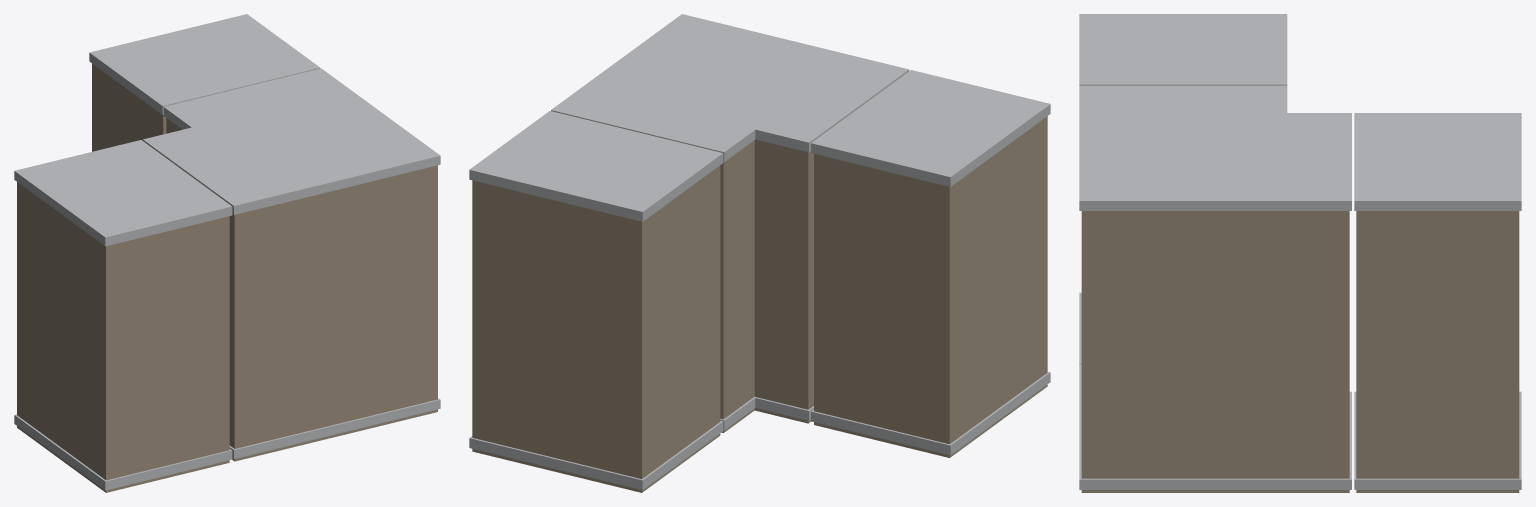
The model's file is basket-wall-corner.glb.
The picture shows the model from 3 angles, left to right: view 1: azimuth 30°, elevation 25°; view 2: azimuth 150°, elevation 25°; view 3: azimuth 270°, elevation 25°; orthographic projection. The views are drawn at different scales.
Visible parts, largest first — view 1: basket-wall-corner; view 2: basket-wall-corner; view 3: basket-wall-corner.
Part boxes in pixels (x1=…): basket-wall-corner: x1=14, y1=14, x2=440, y2=492; basket-wall-corner: x1=469, y1=14, x2=1050, y2=492; basket-wall-corner: x1=1079, y1=14, x2=1521, y2=492.
Size of the model in its own units: 1.96 by 1.43 by 1.96.
